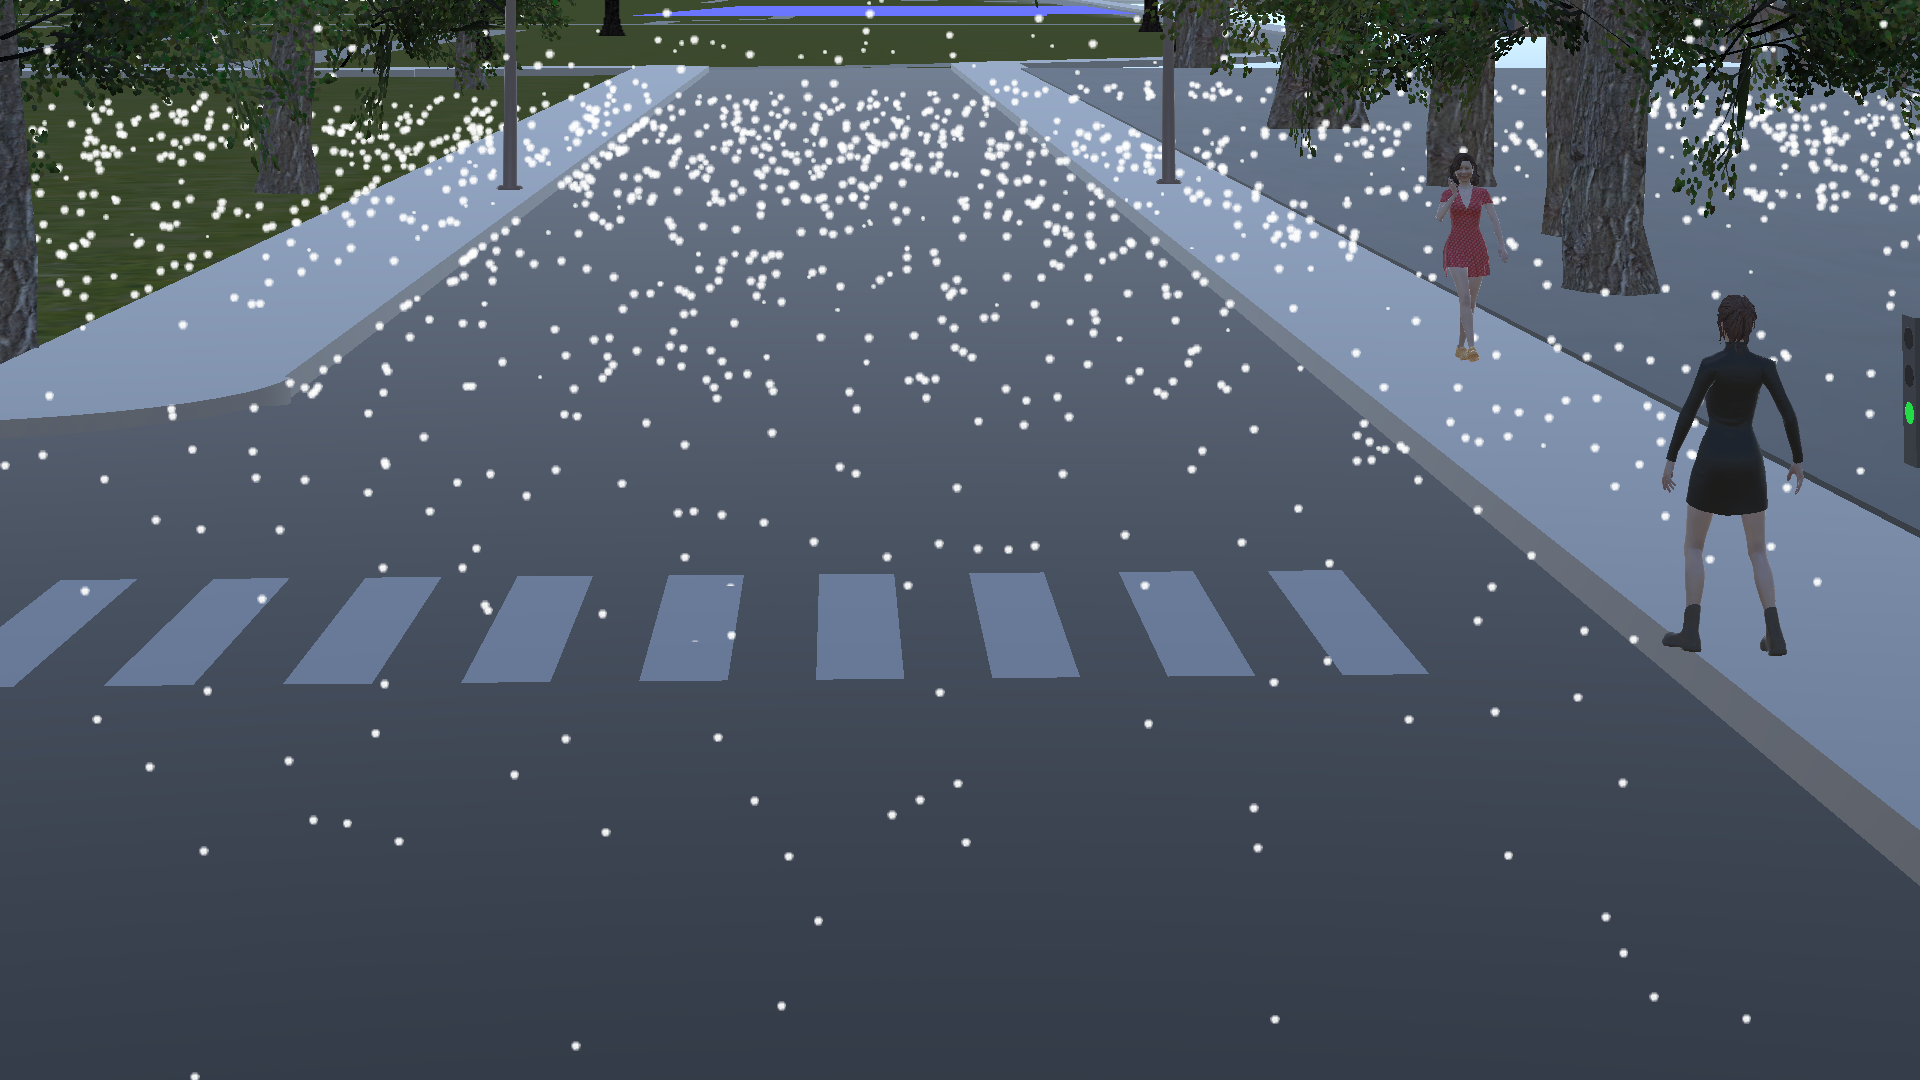pedestrian: (1653, 281, 1817, 672), (1429, 145, 1506, 373)
